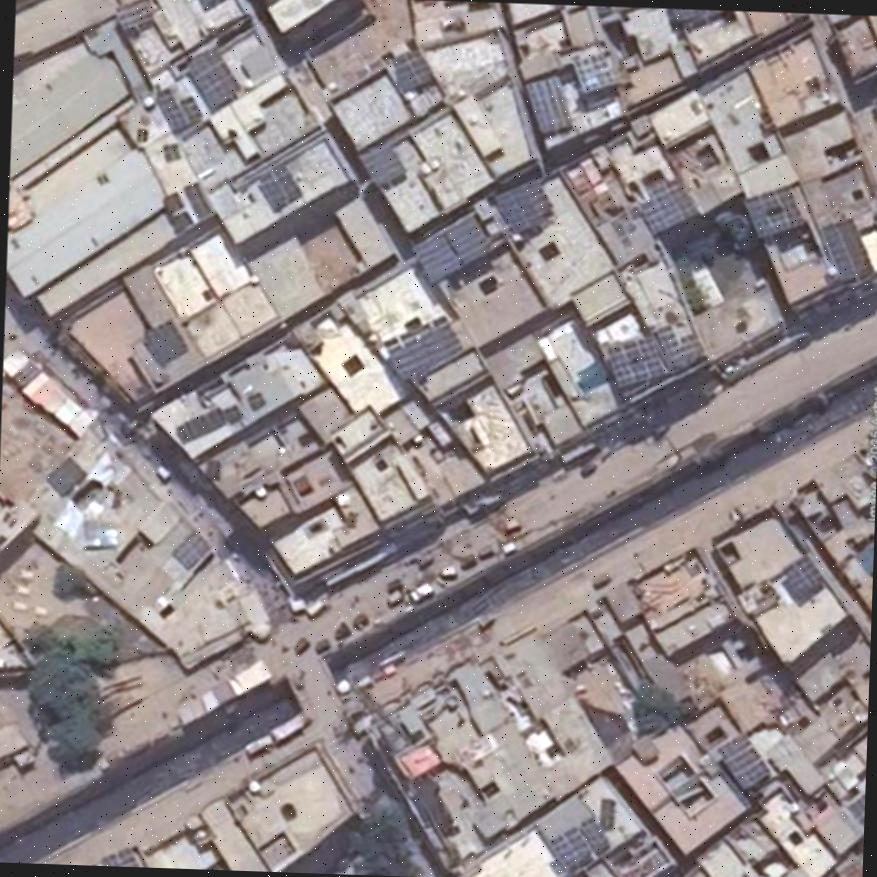Solarpanel: (412, 216, 491, 281), (388, 320, 462, 382), (183, 48, 236, 110), (550, 817, 611, 870), (717, 729, 771, 787), (640, 181, 698, 235), (822, 217, 872, 278), (492, 180, 551, 230), (745, 188, 803, 236), (608, 337, 664, 386), (653, 319, 703, 368), (528, 76, 571, 132), (155, 80, 202, 131), (144, 320, 189, 367), (783, 556, 825, 604), (362, 142, 404, 184), (256, 165, 297, 208), (573, 53, 614, 93), (391, 50, 431, 90), (172, 531, 209, 570), (184, 183, 211, 217), (169, 208, 192, 234), (161, 192, 180, 212), (163, 143, 180, 161)
